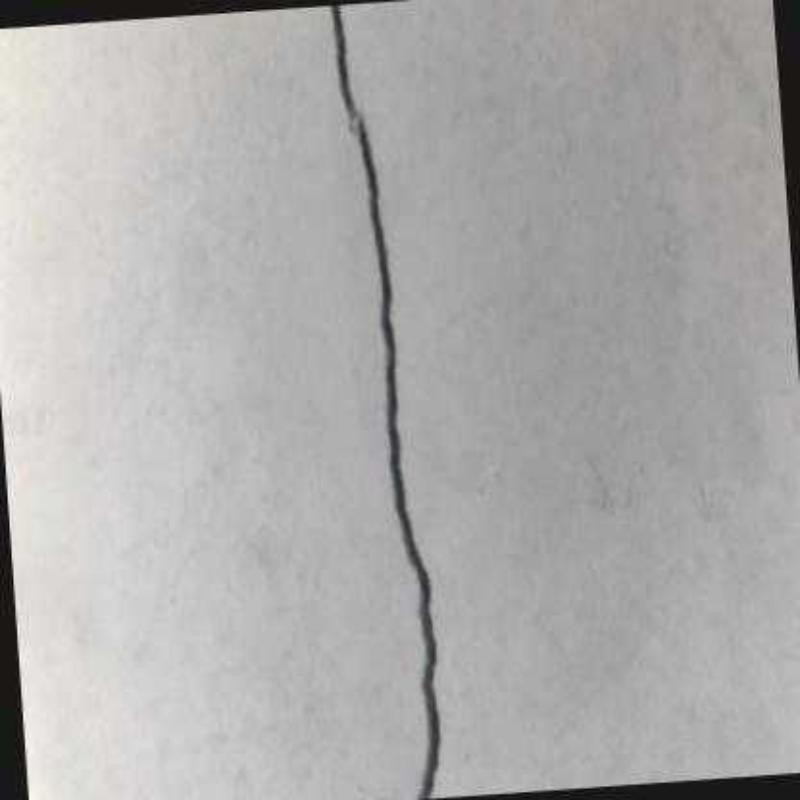crack: (318, 3, 442, 800)
